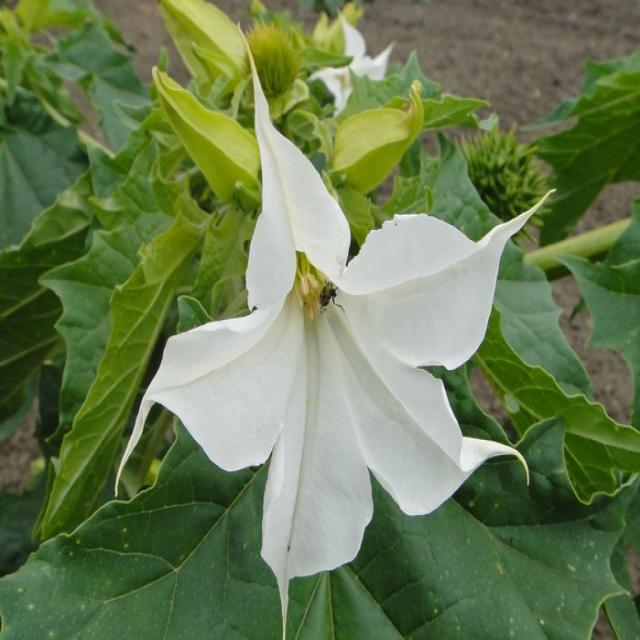Poisonous-Datura_Stramonium: (125, 0, 573, 640)
